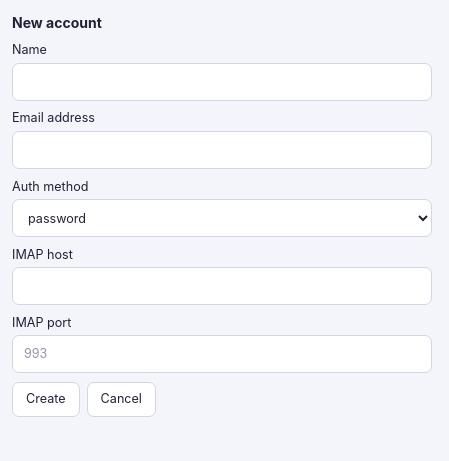
Scenario: AccountForm › renders a server validation error instead of failing silently
Type "x" into the field labelled "Name".
click(222, 82); type("x")  # box [12,63,432,101]
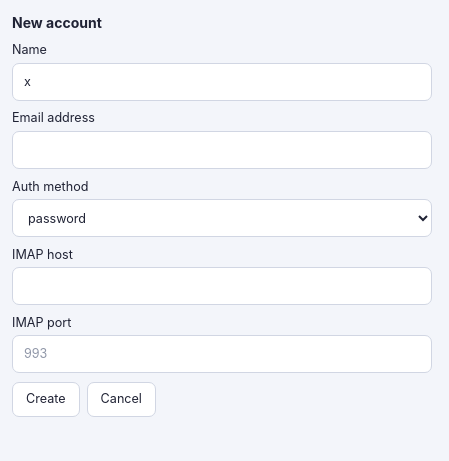
Type "x@y.z" into the field labelled "Email address".
click(222, 150); type("x@y.z")  # box [12,131,432,169]
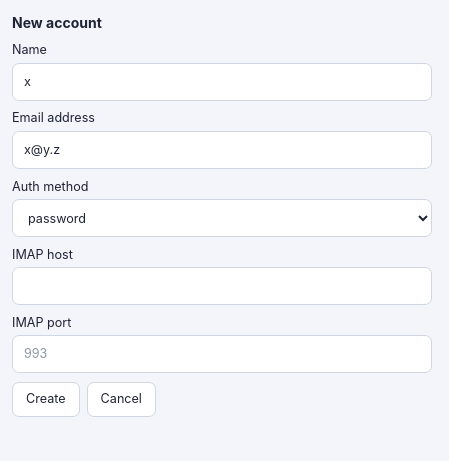
Submit the form with test id "account-form"
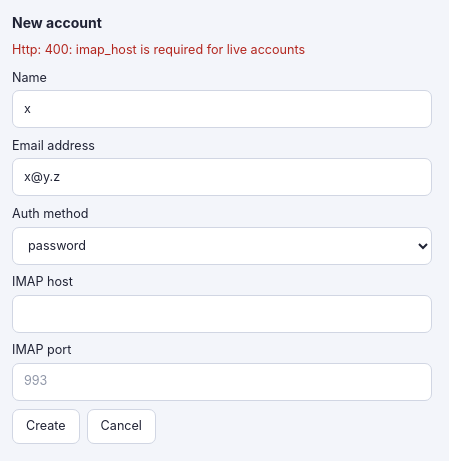
Check: the message with test id "account-form-error" shows "imap_host is required", box [12,42,305,57]
